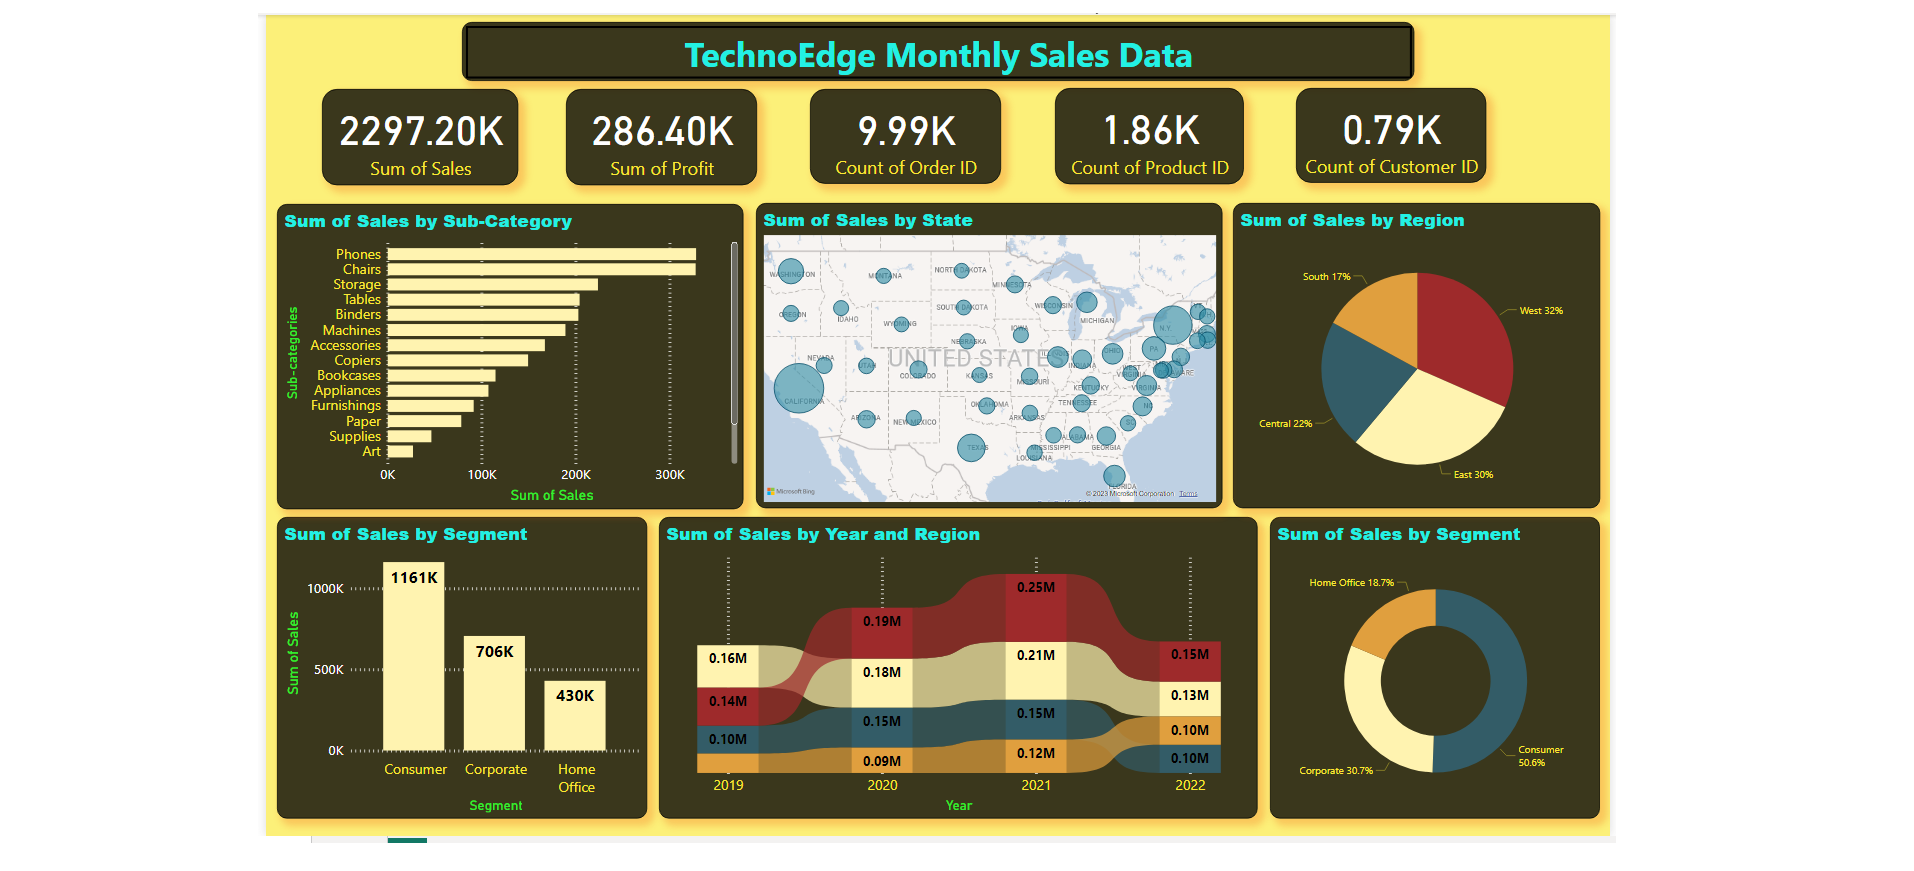

What the dashboard file says about the page in this screenshot:
{"tool":"powerbi","page":{"name":"Page 1","canvas":[1800,1100],"ordinal":0},"visuals":[{"type":"columnChart","fields":{"Category":["TechnoEdge Monthy Sales Data.Segment"],"Y":["Sum(TechnoEdge Monthy Sales Data.Sales)"]},"box":[14.7,672.5,495.6,403.5],"z":0},{"type":"barChart","fields":{"Y":["Sum(TechnoEdge Monthy Sales Data.Sales)"],"Category":["TechnoEdge Monthy Sales Data.Sub-Category"]},"box":[15.1,252.9,624.8,408.7],"z":1000},{"type":"ribbonChart","fields":{"Category":["TechnoEdge Monthy Sales Data.Order Date.Variation.Date Hierarchy.Year","TechnoEdge Monthy Sales Data.Order Date.Variation.Date Hierarchy.Quarter","TechnoEdge Monthy Sales Data.Order Date.Variation.Date Hierarchy.Month","TechnoEdge Monthy Sales Data.Order Date.Variation.Date Hierarchy.Day"],"Y":["Sum(TechnoEdge Monthy Sales Data.Sales)"],"Series":["TechnoEdge Monthy Sales Data.Region"]},"box":[527,672.5,801.5,403.5],"z":2000},{"type":"donutChart","fields":{"Category":["TechnoEdge Monthy Sales Data.Segment"],"Y":["Sum(TechnoEdge Monthy Sales Data.Sales)"]},"box":[1345.1,672.5,442.2,403.5],"z":3000},{"type":"actionButton","box":[262.6,9.4,1275.5,79],"z":4000},{"type":"pieChart","fields":{"Category":["TechnoEdge Monthy Sales Data.Region"],"Y":["Sum(TechnoEdge Monthy Sales Data.Sales)"]},"box":[1295.3,252.4,492,409],"z":5000},{"type":"map","fields":{"Category":["TechnoEdge Monthy Sales Data.State"],"Size":["Sum(TechnoEdge Monthy Sales Data.Sales)"]},"box":[655.9,252.4,624.6,409],"z":6000},{"type":"card","fields":{"Values":["Sum(TechnoEdge Monthy Sales Data.Sales)"]},"box":[75,99.1,262.6,128.6],"z":7000},{"type":"card","fields":{"Values":["Sum(TechnoEdge Monthy Sales Data.Profit)"]},"box":[402.4,98.8,256.3,129],"z":8000},{"type":"card","fields":{"Values":["CountNonNull(TechnoEdge Monthy Sales Data.Order ID)"]},"box":[729.5,98.8,256.3,127.3],"z":9000},{"type":"card","fields":{"Values":["Count(TechnoEdge Monthy Sales Data.Product ID)"]},"box":[1056.5,97.2,252.9,129],"z":10000},{"type":"card","fields":{"Values":["Count(TechnoEdge Monthy Sales Data.Customer ID)"]},"box":[1380.2,97.2,254.6,127.3],"z":11000}]}

Visuals, with their boxes in screenshot pixels (x1, y1, x2, y2):
columnChart - TechnoEdge Monthy Sales Data.Segment x Sum(TechnoEdge Monthy Sales Data.Sales): [265,512,639,817]
barChart - Sum(TechnoEdge Monthy Sales Data.Sales) x TechnoEdge Monthy Sales Data.Sub-Category: [266,196,737,504]
ribbonChart - TechnoEdge Monthy Sales Data.Order Date.Variation.Date Hierarchy.Year x TechnoEdge Monthy Sales Data.Order Date.Variation.Date Hierarchy.Quarter: [652,512,1256,817]
donutChart - TechnoEdge Monthy Sales Data.Segment x Sum(TechnoEdge Monthy Sales Data.Sales): [1269,512,1602,817]
actionButton: [452,12,1414,72]
pieChart - TechnoEdge Monthy Sales Data.Region x Sum(TechnoEdge Monthy Sales Data.Sales): [1231,195,1602,504]
map - TechnoEdge Monthy Sales Data.State x Sum(TechnoEdge Monthy Sales Data.Sales): [749,195,1220,504]
card - Sum(TechnoEdge Monthy Sales Data.Sales): [311,80,509,177]
card - Sum(TechnoEdge Monthy Sales Data.Profit): [558,80,751,177]
card - CountNonNull(TechnoEdge Monthy Sales Data.Order ID): [804,80,998,176]
card - Count(TechnoEdge Monthy Sales Data.Product ID): [1051,78,1242,176]
card - Count(TechnoEdge Monthy Sales Data.Customer ID): [1295,78,1487,174]
